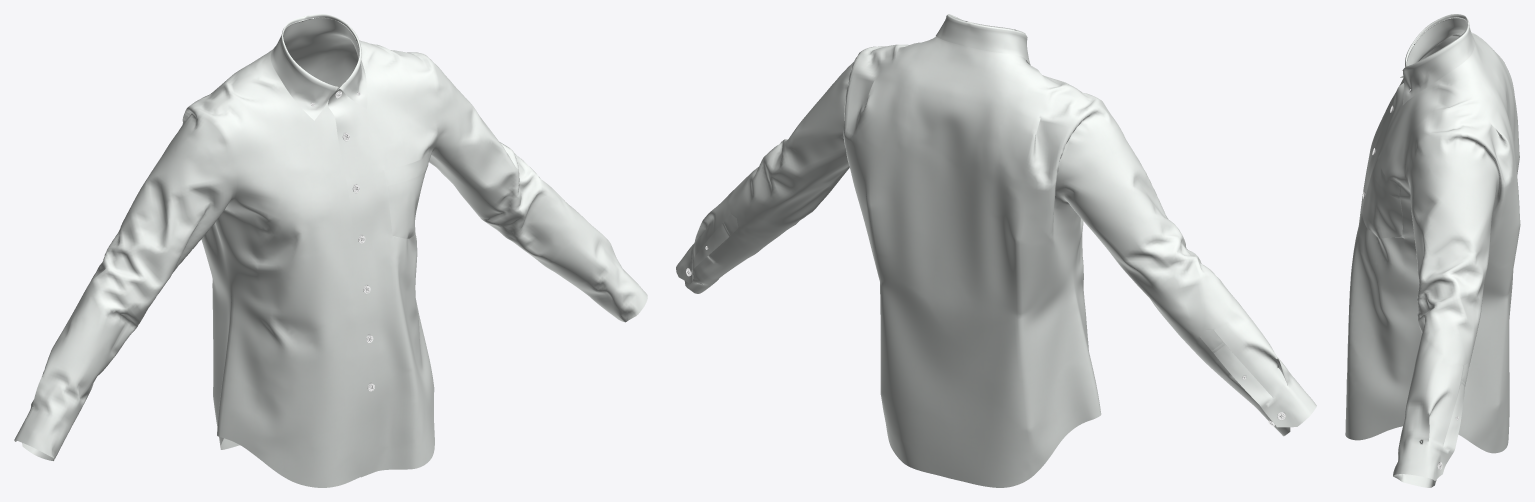
File: f479728c-c95e-4e17-8b28-91840507b40d_final_shirt.glb
The picture shows the model from 3 angles, left to right: view 1: azimuth 30°, elevation 25°; view 2: azimuth 150°, elevation 25°; view 3: azimuth 270°, elevation 25°; orthographic projection. The views are drawn at different scales.
Parts seen in each view (by area): view 1: Men's Shirt; view 2: Men's Shirt; view 3: Men's Shirt.
Part boxes in pixels (x1,y1,x2,y2): Men's Shirt: (14,14,647,487); Men's Shirt: (676,14,1316,487); Men's Shirt: (1345,14,1520,487).
Bounding box in the file's own units: 116 × 77.17 × 30.07.
Materials: 5 (5 with a texture image).
